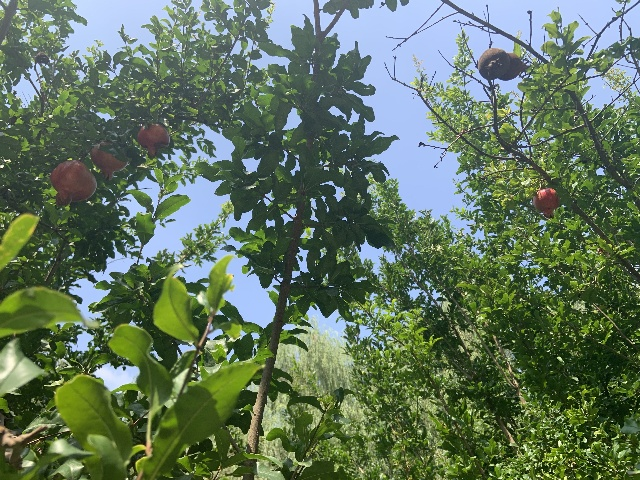bud: (477, 48, 524, 82)
ripe: (49, 160, 96, 205), (90, 143, 127, 180), (137, 122, 169, 156), (532, 187, 560, 218)
